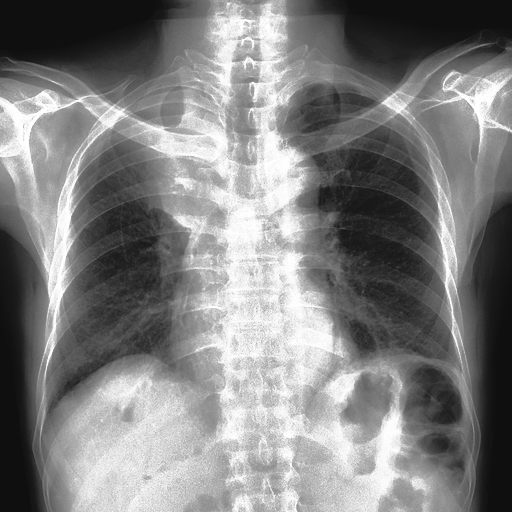Aortic enlargement: (105, 86, 226, 240), (158, 138, 217, 220)
Infiltration: (105, 86, 226, 240)
Pleural thickening: (121, 86, 223, 229)
Pulmonary fibrosis: (158, 138, 217, 220)
